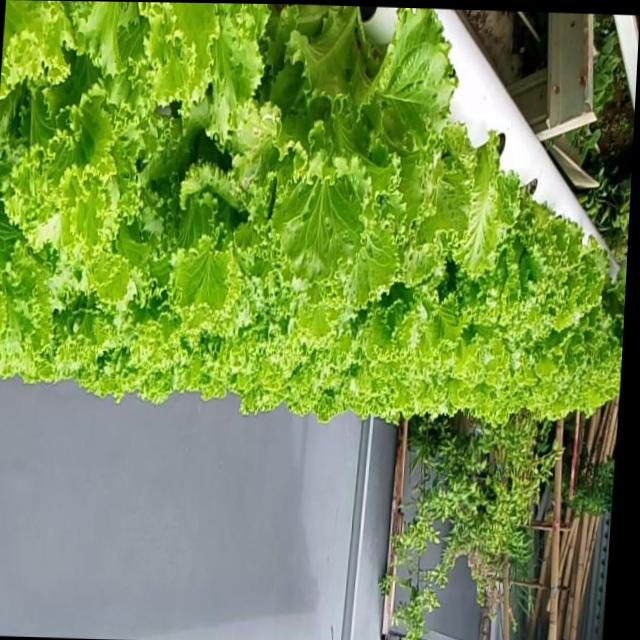Mature: (0, 0, 626, 441), (273, 26, 471, 321), (476, 182, 622, 397)
